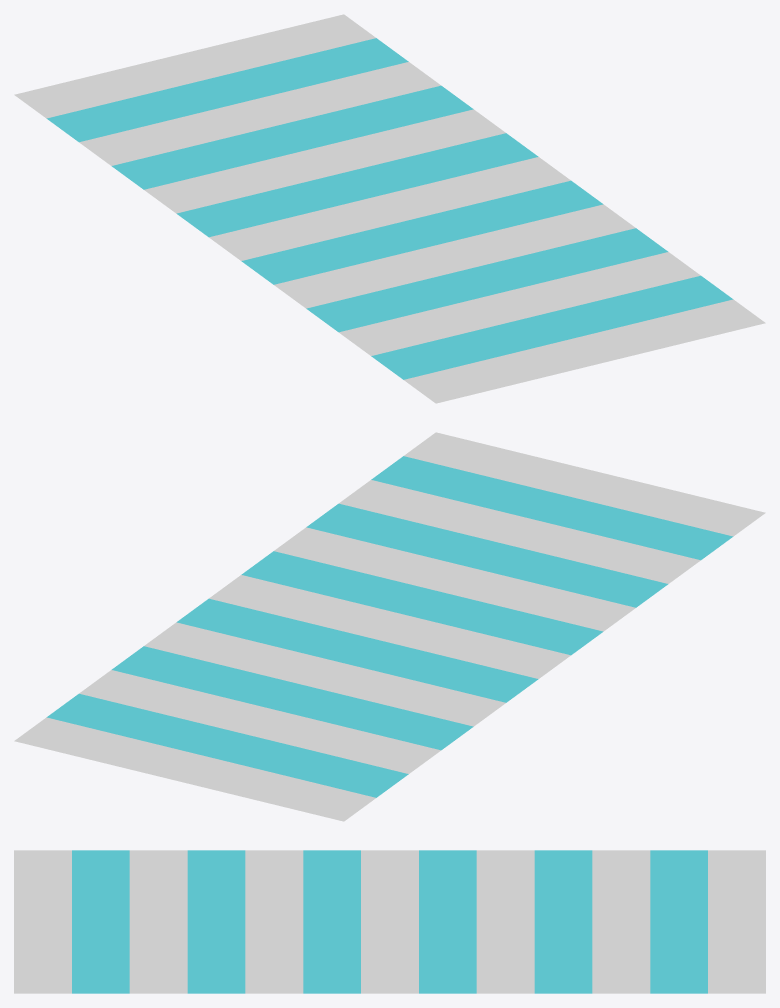
The model's file is capet.fbx.
The picture shows the model from 3 angles, top to bottom: view 1: azimuth 30°, elevation 25°; view 2: azimuth 150°, elevation 25°; view 3: azimuth 270°, elevation 25°; orthographic projection. The views are drawn at different scales.
Visible parts, largest first — view 1: carpet; view 2: carpet; view 3: carpet.
Part boxes in pixels (x1,y1,x2,y2): carpet: (14, 14, 765, 403); carpet: (14, 432, 765, 821); carpet: (14, 850, 765, 993).
Bounding box in the file's own units: 87.29 × 3.15e-05 × 193.
